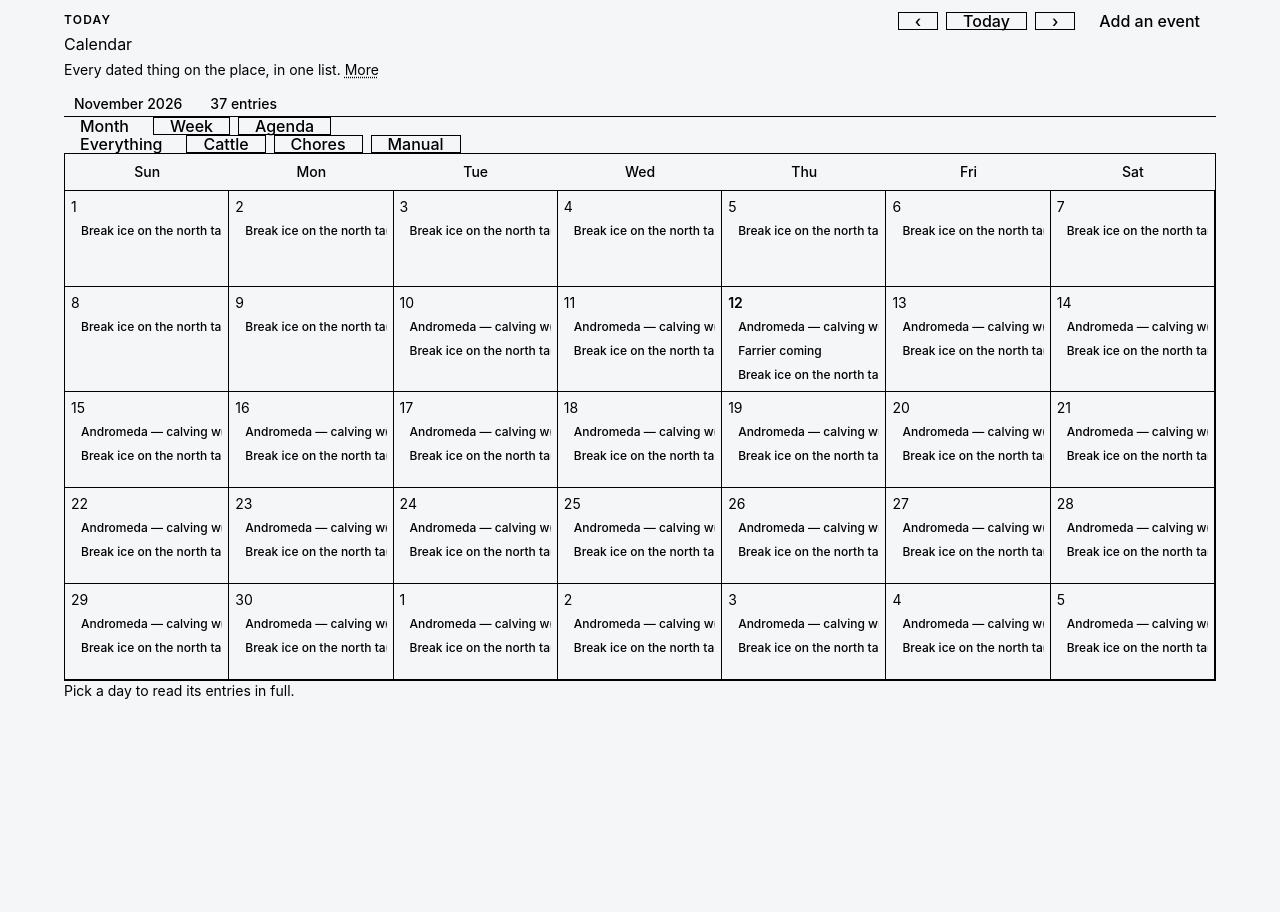
Test case: the unified calendar screen › moves to another month and comes back
Expected: the text "November 2026" is shown, [74,95,182,112]
Click the button named "Next" at (1055, 21), box [1035,12,1075,30]
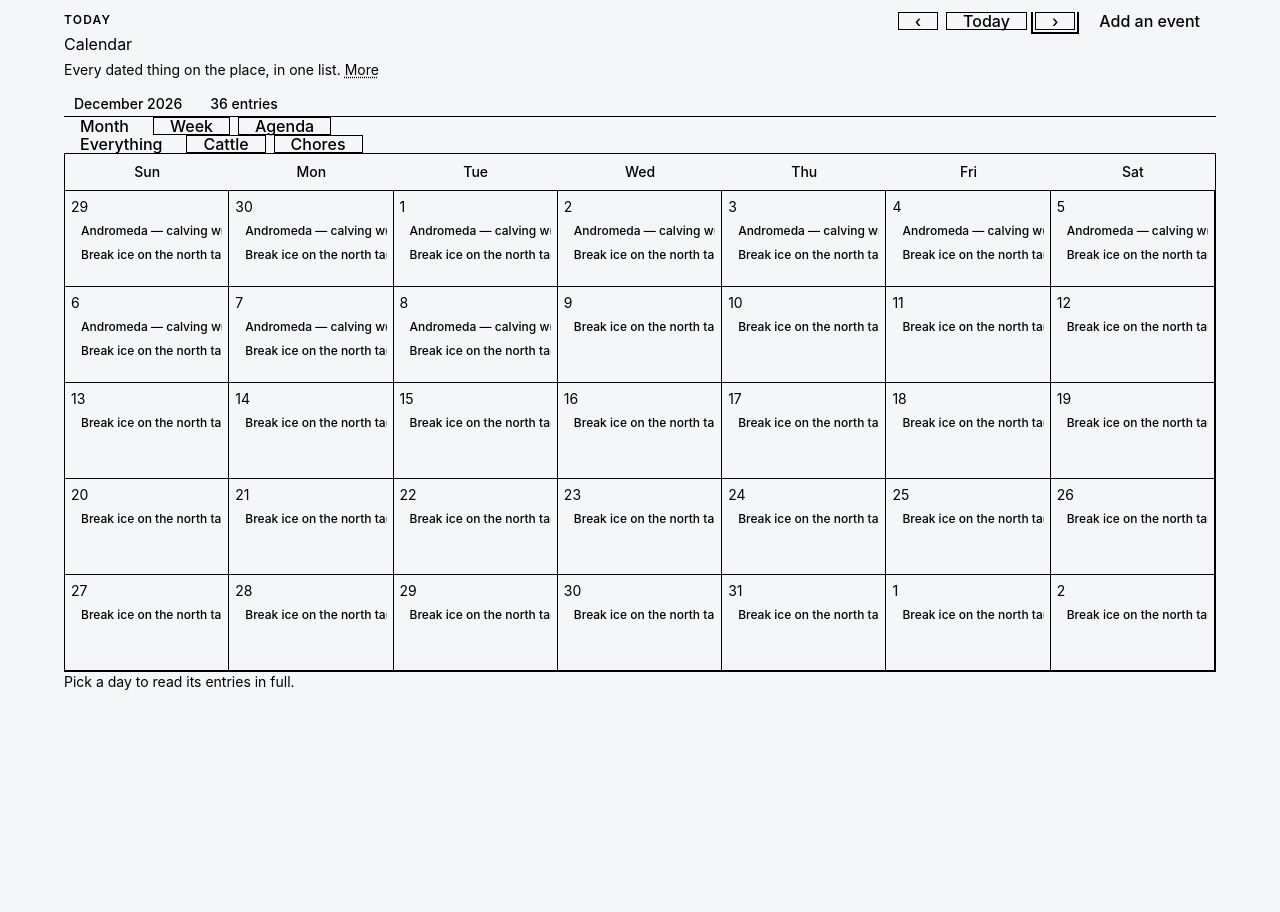
Click the button "Today" at (986, 21), box [946,12,1027,30]
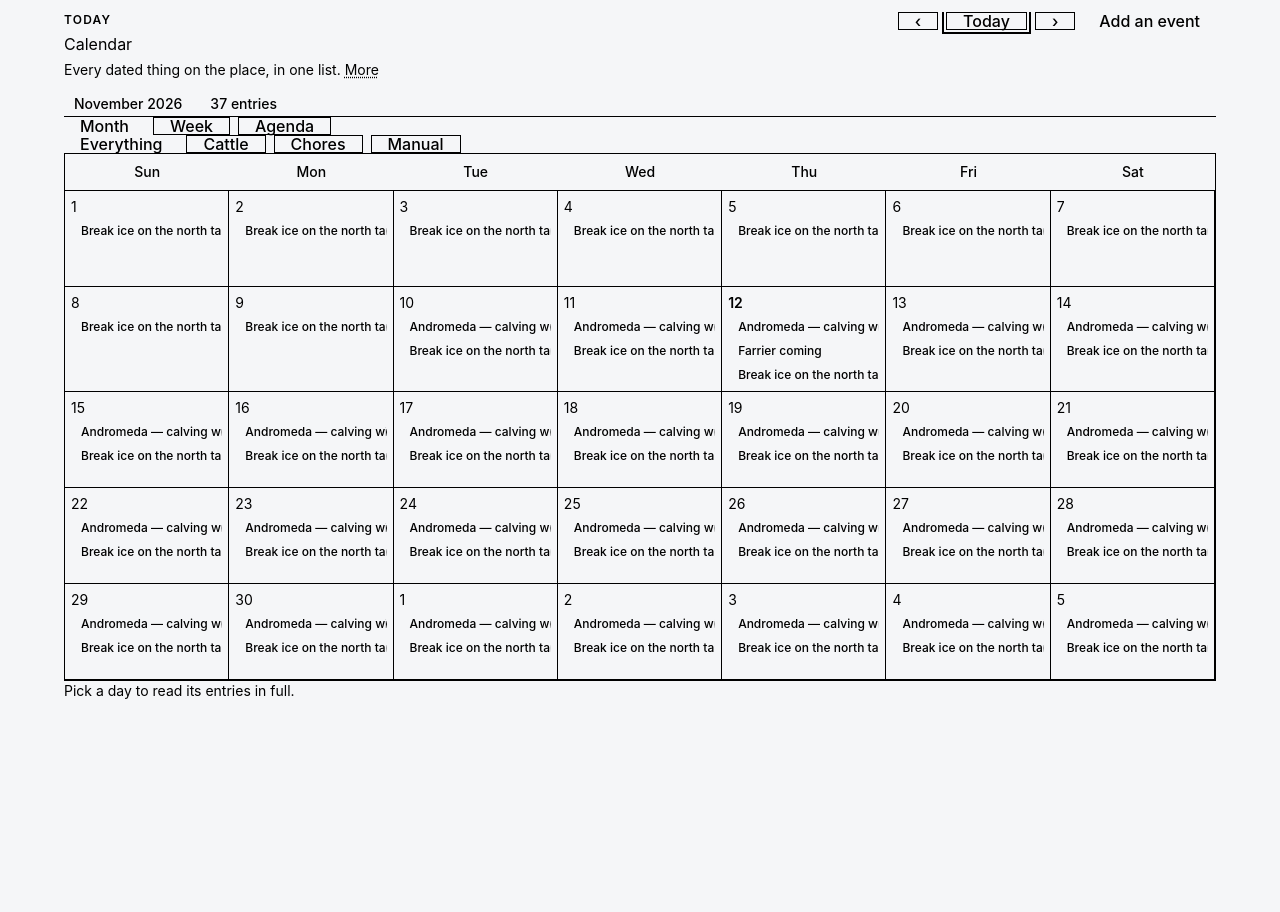
Expected: the text "November 2026" is shown, [74,95,182,112]
